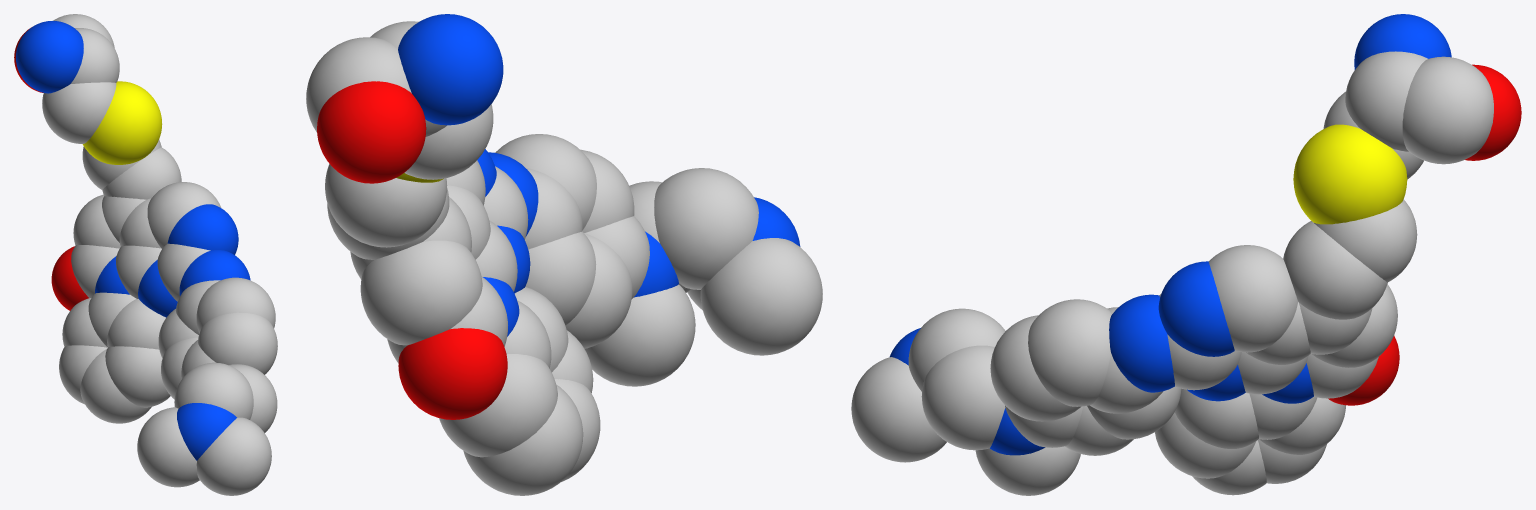
3 views of the same model, side by side, from view 1: azimuth 30°, elevation 25°; view 2: azimuth 150°, elevation 25°; view 3: azimuth 270°, elevation 25° (orthographic). The views are drawn at different scales.
Bounding box in the file's own units: 8.98 × 16.36 × 21.17.
